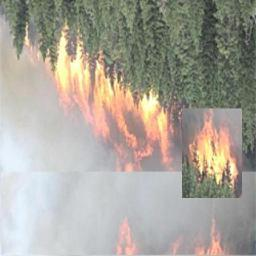Low smoke: (0, 39, 256, 256)
Medium fire: (26, 24, 256, 200)
